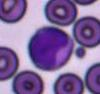L: (28, 26, 74, 70)
